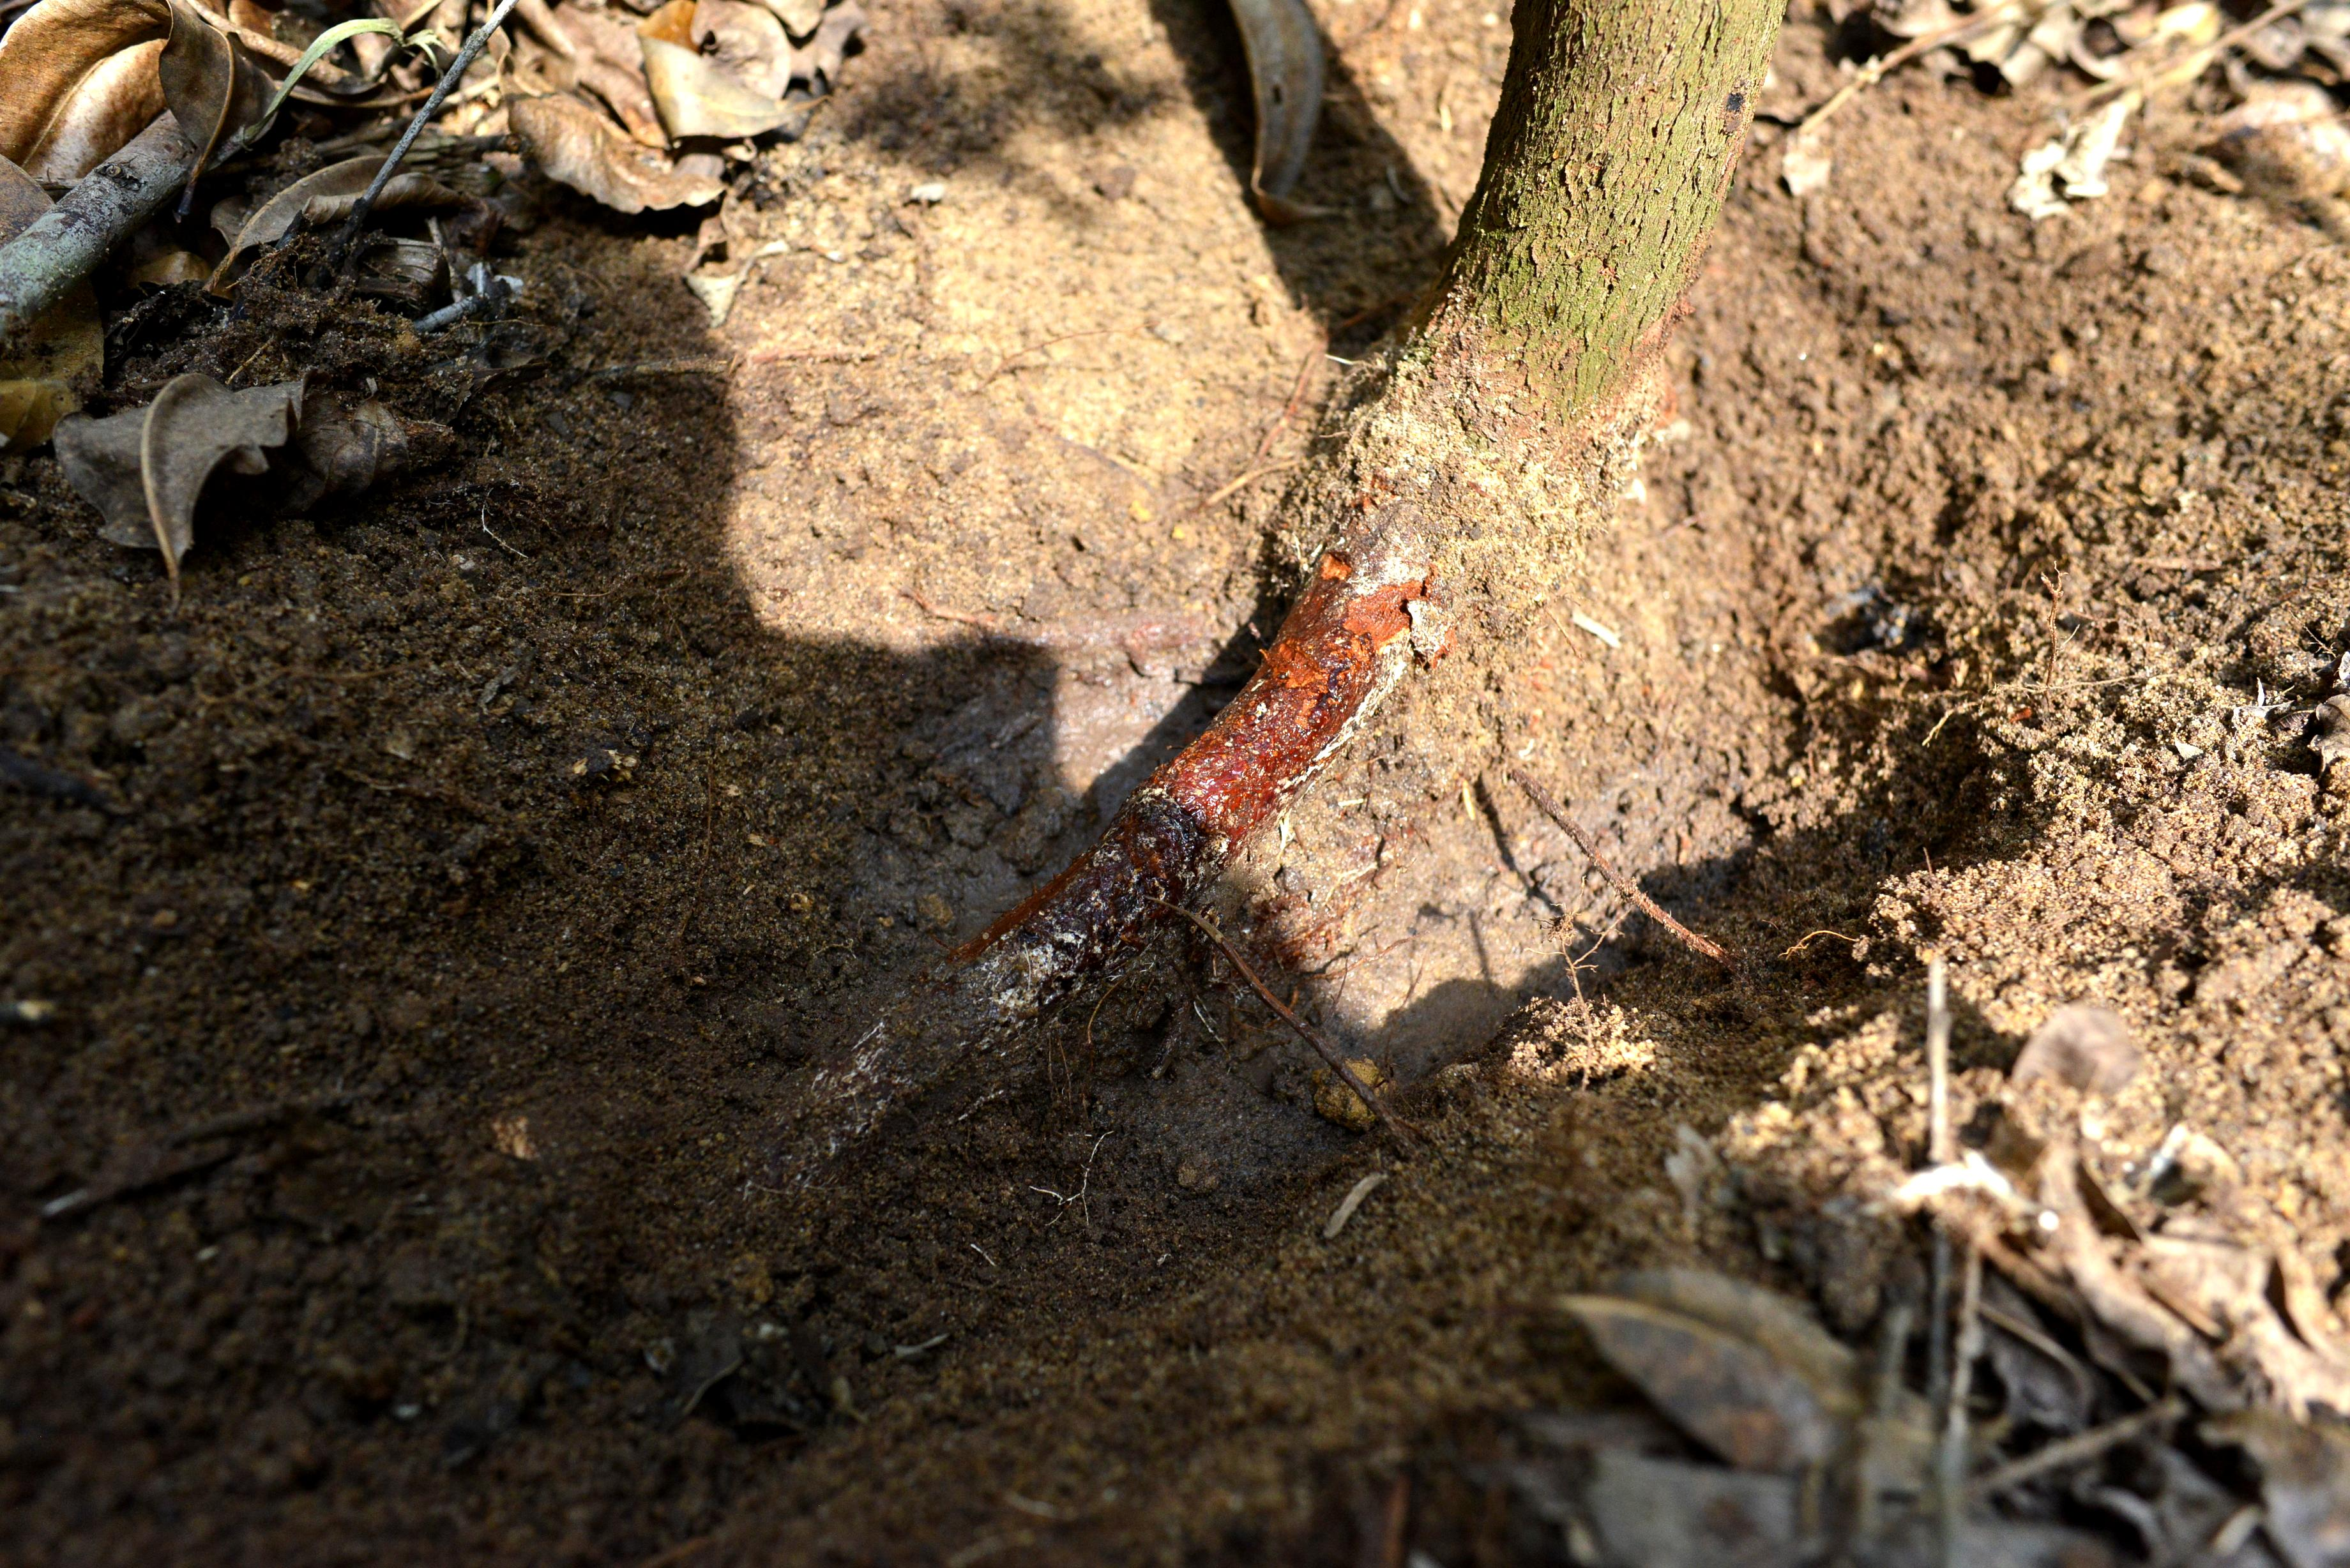Ganoderma - Mycelium: (896, 1136, 1122, 1370), (1265, 623, 1463, 831), (962, 929, 1153, 1052), (793, 990, 919, 1158), (1335, 486, 1452, 588), (1073, 821, 1197, 896)
Red Root Rot - Secretion: (973, 598, 1405, 980)
